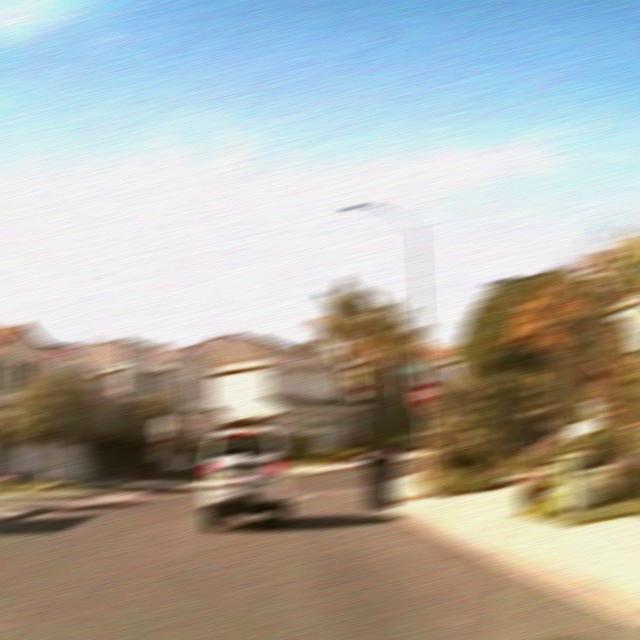stop_sign: (409, 378, 438, 407)
